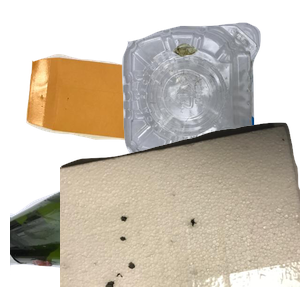glass: (10, 154, 246, 300)
paper: (23, 51, 206, 189)
plastic: (119, 20, 300, 190)
trash: (60, 120, 300, 300)
